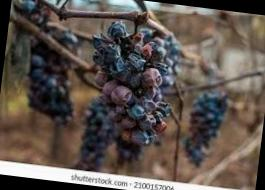Grape Rotten: (72, 17, 184, 179), (21, 51, 80, 128), (179, 86, 229, 170)
